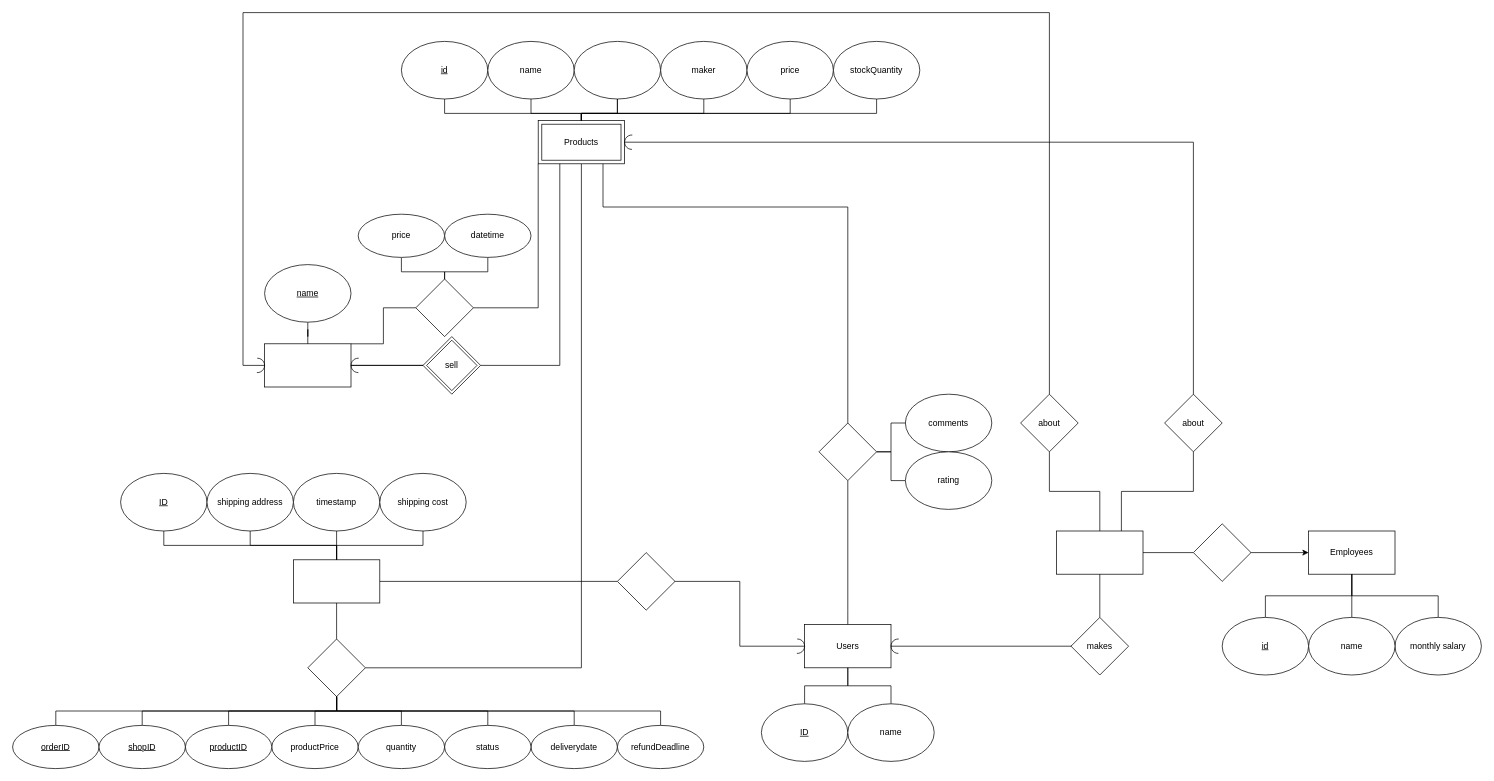
Some shapes in this 1494 by 781 pixel diagram are drawn without their labels. The shapes that lost their labels are listed below. From the top down, each one's box as (x1, y1, x2, y2) in pixels, then its label:
(573, 41, 661, 99): category
(415, 278, 473, 337): history
(264, 343, 351, 387): Shops
(818, 422, 877, 481): RATE
(1056, 530, 1143, 574): Complaint
(1193, 523, 1251, 581): handles
(293, 559, 380, 603): Orders
(617, 552, 675, 610): places
(307, 638, 365, 697): contains
